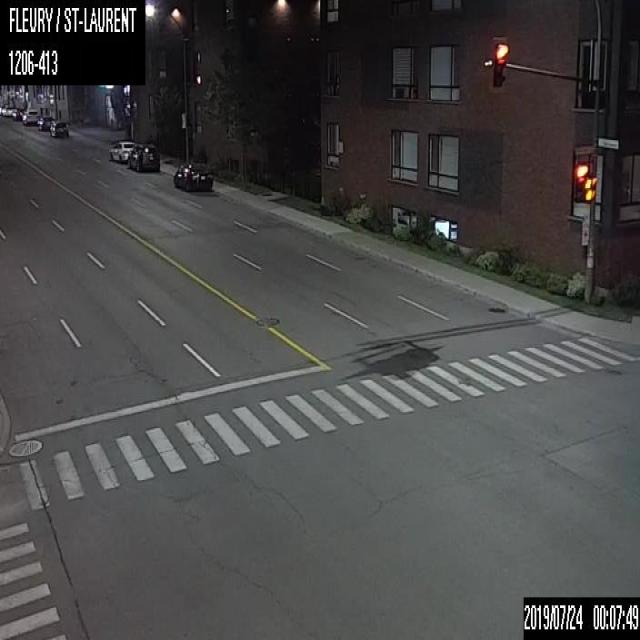vehicle: (172, 158, 213, 190), (126, 144, 160, 172), (108, 140, 136, 162), (49, 120, 68, 137), (22, 108, 38, 125), (36, 116, 54, 130), (10, 107, 24, 120)
